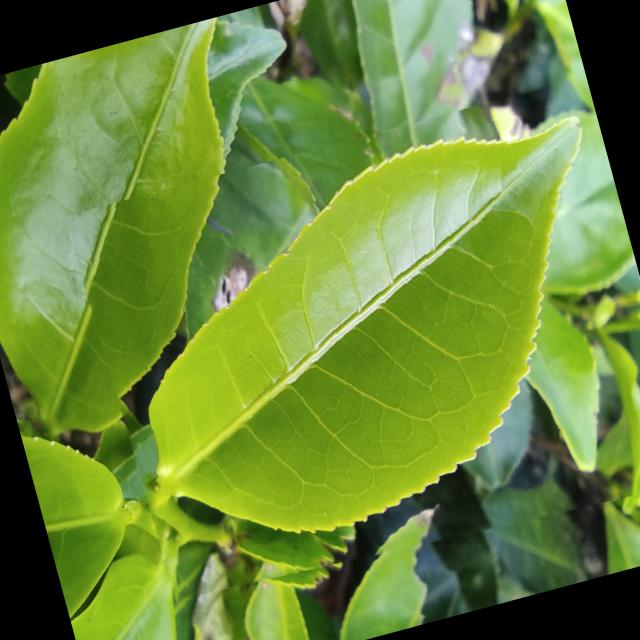Category B(2-4 days): (62, 76, 640, 621)
